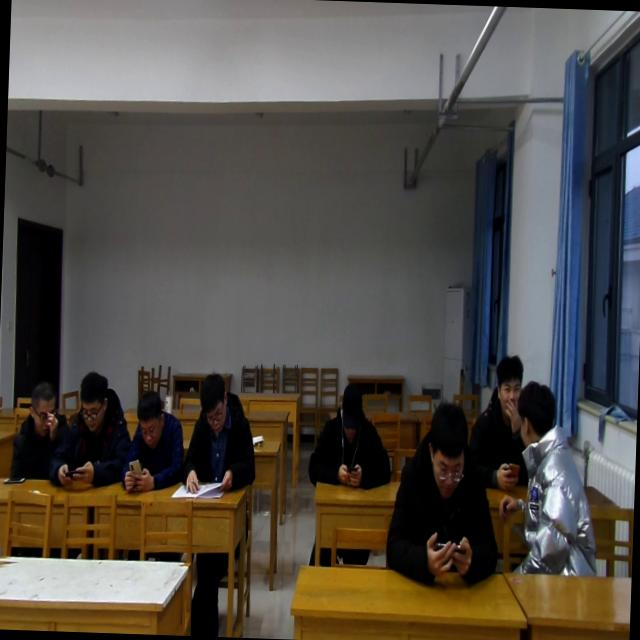down: (421, 396, 470, 501), (74, 366, 112, 434), (195, 366, 229, 434), (334, 380, 369, 446), (132, 386, 166, 448), (332, 456, 360, 486)
lookup: (492, 352, 526, 420)
sit: (384, 396, 504, 591), (496, 378, 604, 578), (46, 368, 135, 494), (179, 369, 260, 496), (307, 379, 394, 490), (468, 352, 534, 491), (118, 385, 186, 496), (6, 378, 74, 482)
